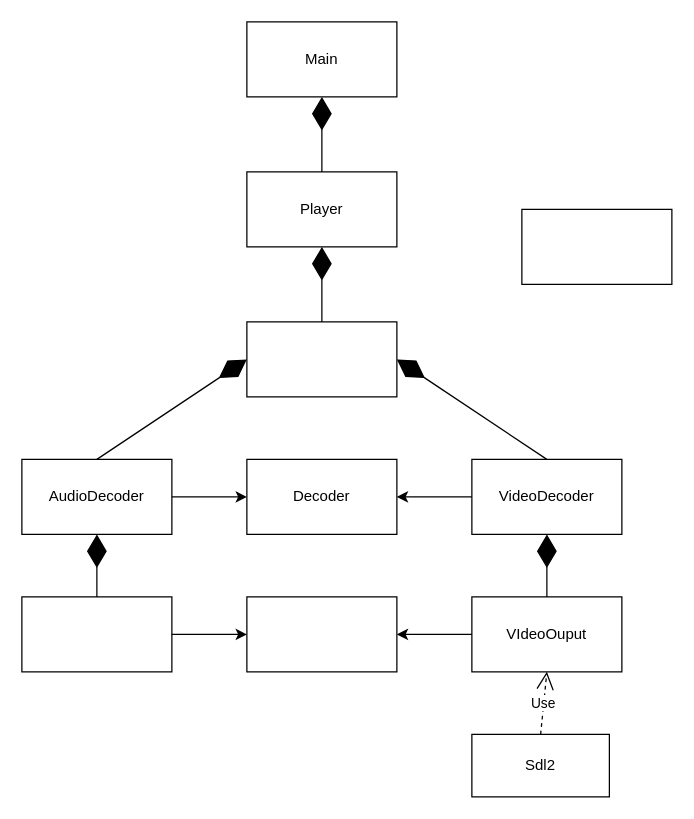
This 694x819 diagram has some shape labels left out. The box of each missing label's shape, as (x1, y1, x2, y2) in pixels:
AudioOutput: (21, 596, 172, 672)
Demuxer: (246, 321, 397, 397)
Logger: (521, 208, 672, 284)
Outp ut: (246, 596, 397, 672)
